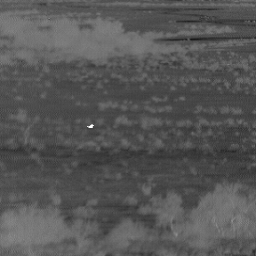Target: (86, 123, 96, 130)
